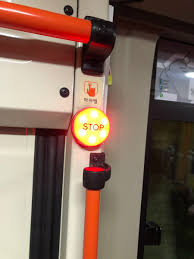bell: (70, 104, 113, 150)
